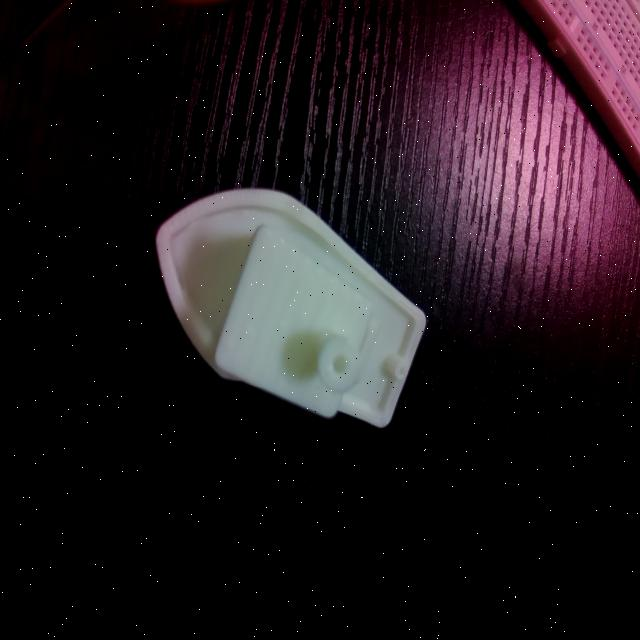ship: (154, 186, 426, 432)
